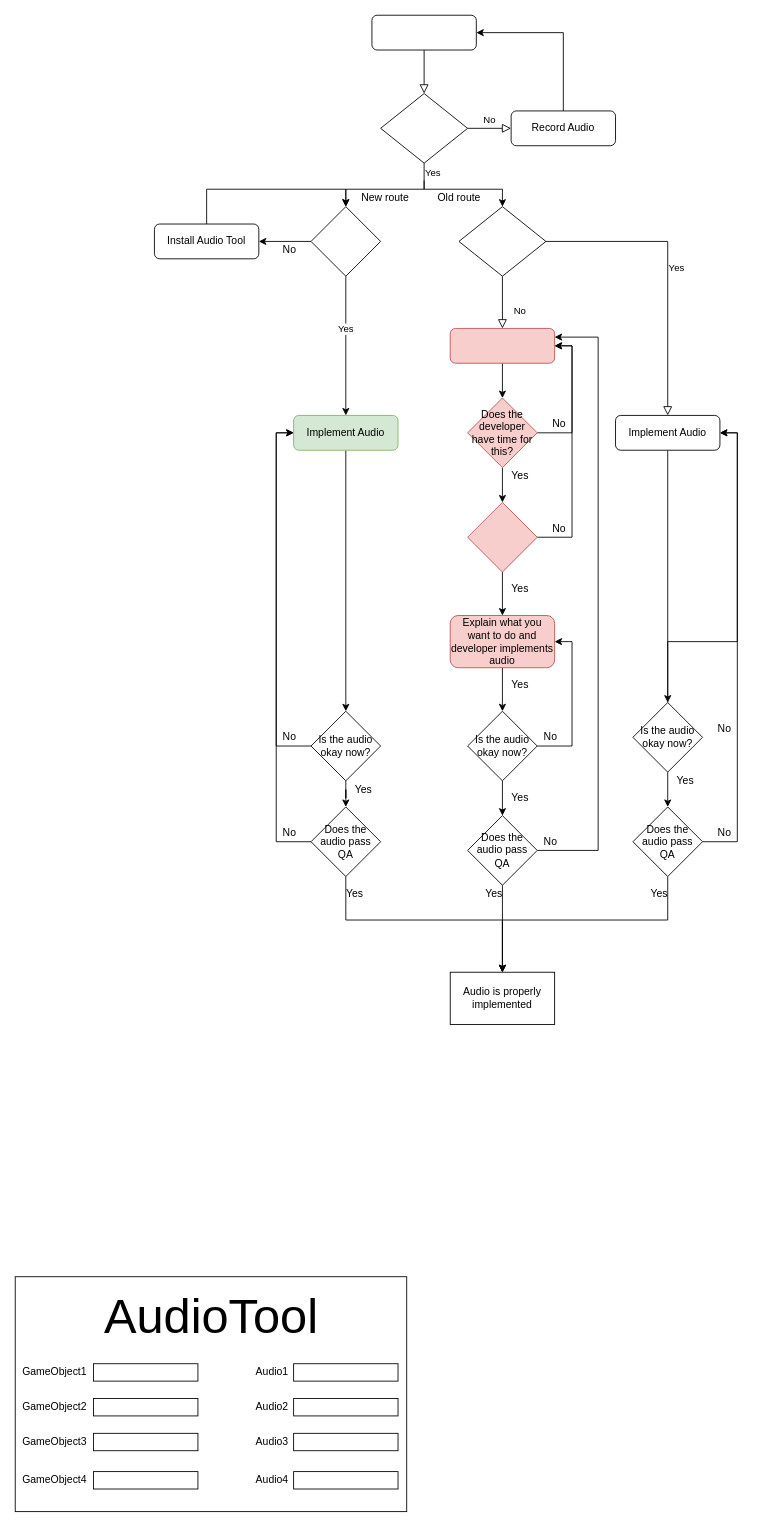
Image size: 760x1527. Some labels were removed from this diagram. Each missing label, with the centre of its shape:
Audio/Dialogue needs to be implemented: the point at 423,32
Do you know how to implement it with code?: the point at 502,241
Does the developer know how to: the point at 502,537
Find Developer: the point at 502,345
Is Audio Recorded?: the point at 424,128
Is the audio tool installed?: the point at 345,241
